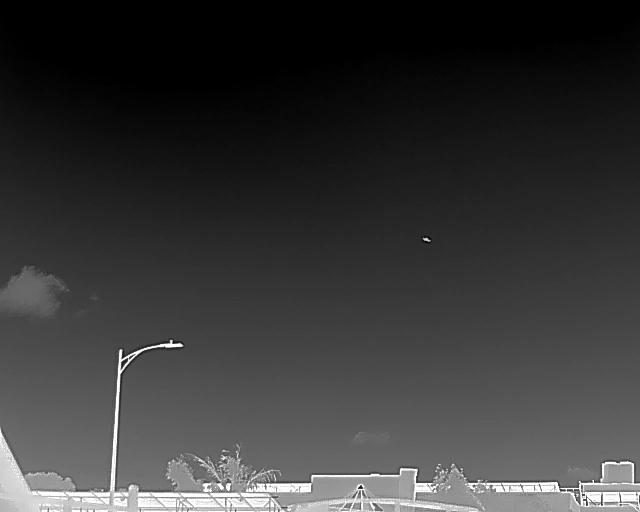fpv-drone: (422, 237, 430, 242)
